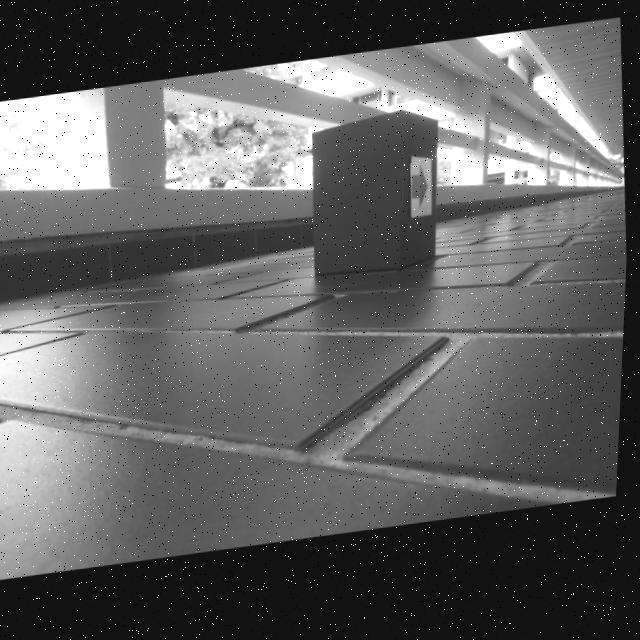RIGHT: (413, 169, 431, 216)
